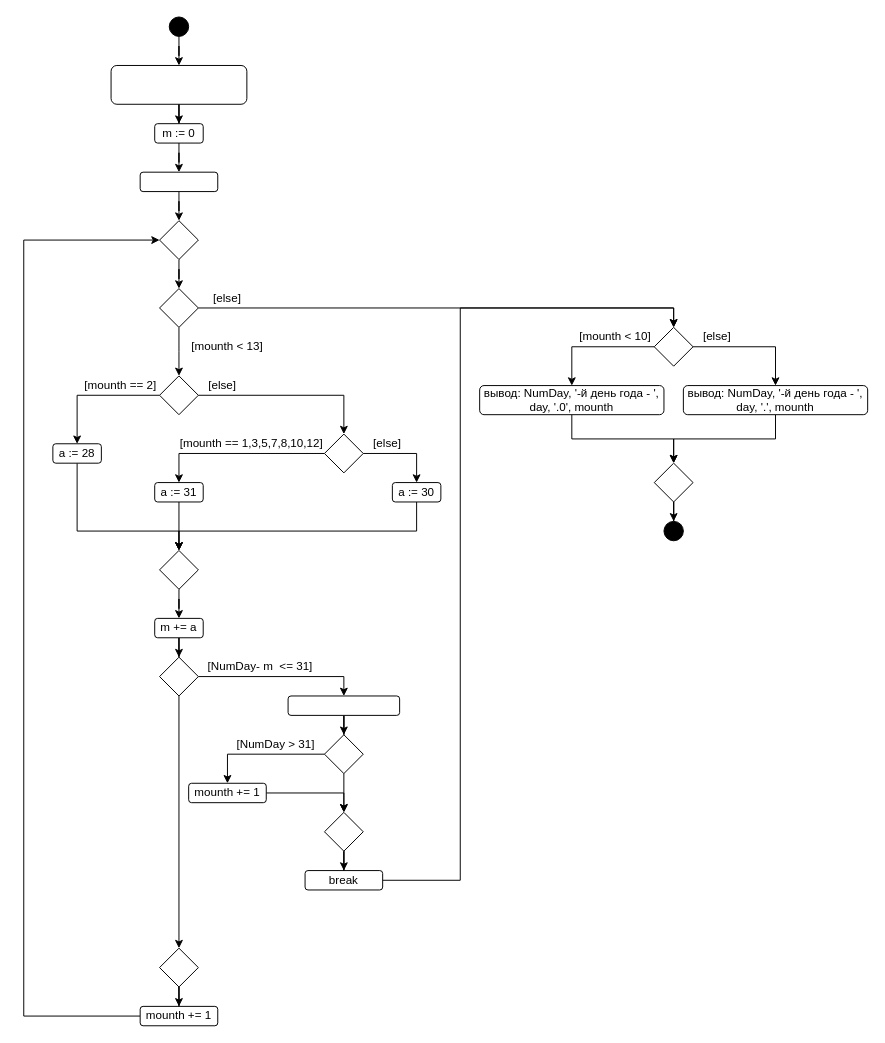
Image size: 885x1043. Some labels were removed from this diagram. Here are the shapes that lost their labels. From the top down, the centre of each, then its label:
At [178,84]: "вывод: 'add number day' ввод: NumDay".
At [178,181]: "mounth := 1".
At [343,705]: "day := NumDay - m".
